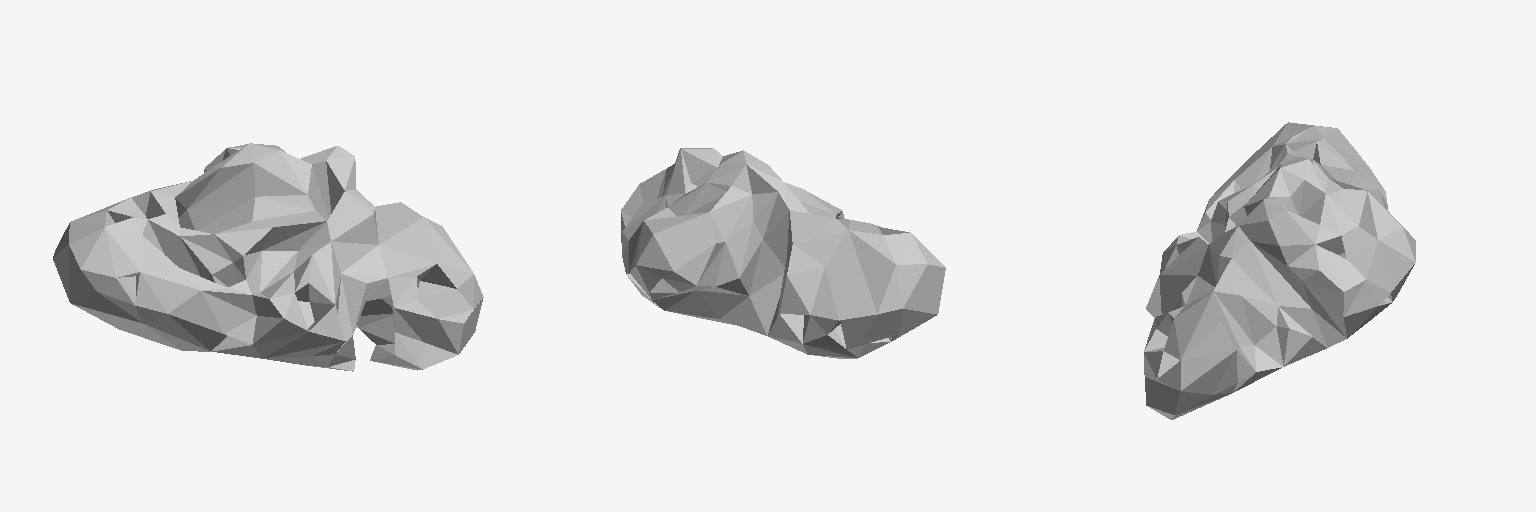
File: coral 500tri.obj
3 views of the same model, side by side, from view 1: azimuth 30°, elevation 25°; view 2: azimuth 150°, elevation 25°; view 3: azimuth 270°, elevation 25° (orthographic).
Size of the model in its own units: 1.91 by 1.03 by 1.27.